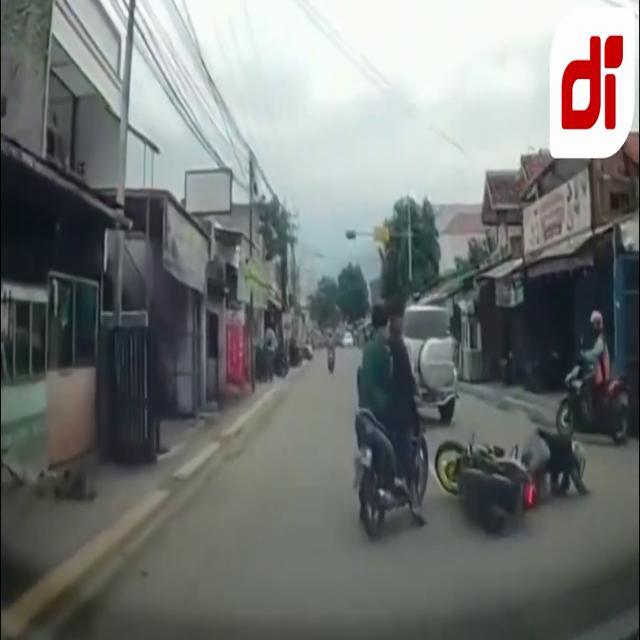multiple_accident: (302, 290, 623, 547)
normal: (545, 302, 639, 457)
